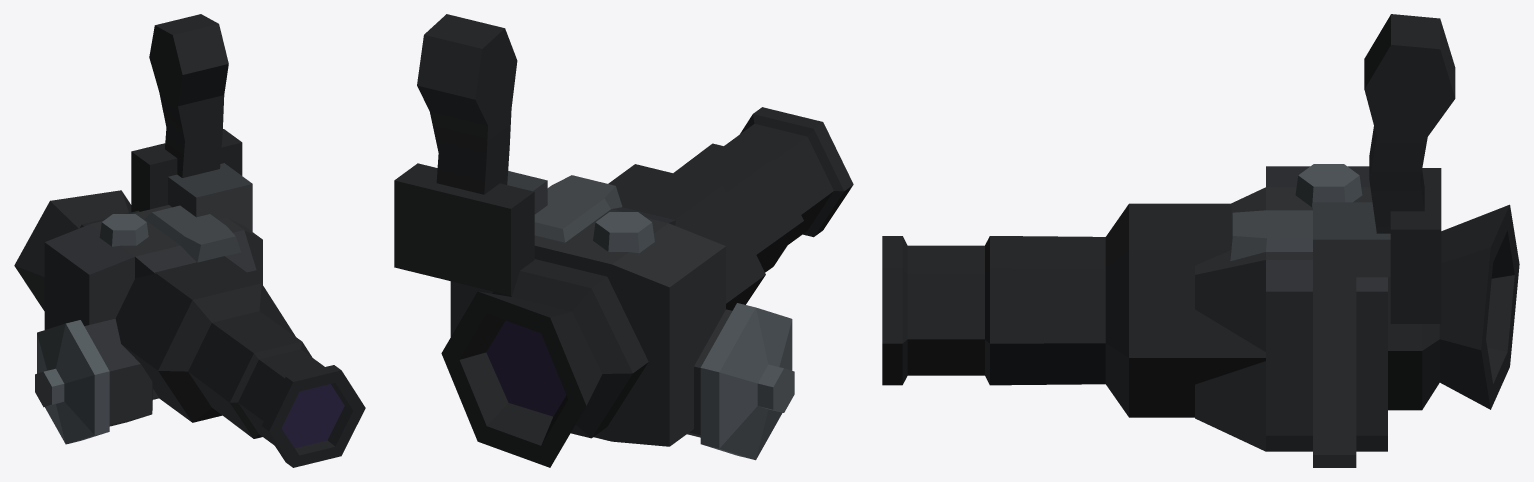
The model's file is SM_Chr_Attach_NVG_01.fbx.
3 renders of one model, left to right at view 1: azimuth 30°, elevation 25°; view 2: azimuth 150°, elevation 25°; view 3: azimuth 270°, elevation 25°, orthographic. The views are drawn at different scales.
Visible parts, largest first — view 1: SM_Chr_Attach_NVG_01; view 2: SM_Chr_Attach_NVG_01; view 3: SM_Chr_Attach_NVG_01.
Boxes of the visible parts, left/top/right/bottom form: SM_Chr_Attach_NVG_01: left=14, top=14, right=365, bottom=467; SM_Chr_Attach_NVG_01: left=394, top=14, right=853, bottom=467; SM_Chr_Attach_NVG_01: left=882, top=14, right=1519, bottom=467.
Size of the model in its own units: 13.26 by 17.53 by 21.9.
